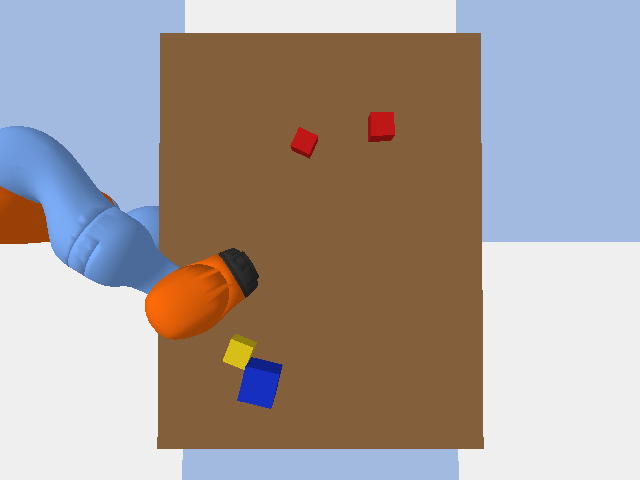blue_obj: (237, 357, 282, 408)
red_obj: (290, 127, 317, 158), (368, 112, 394, 141)
yellow_obj: (223, 334, 256, 369)
